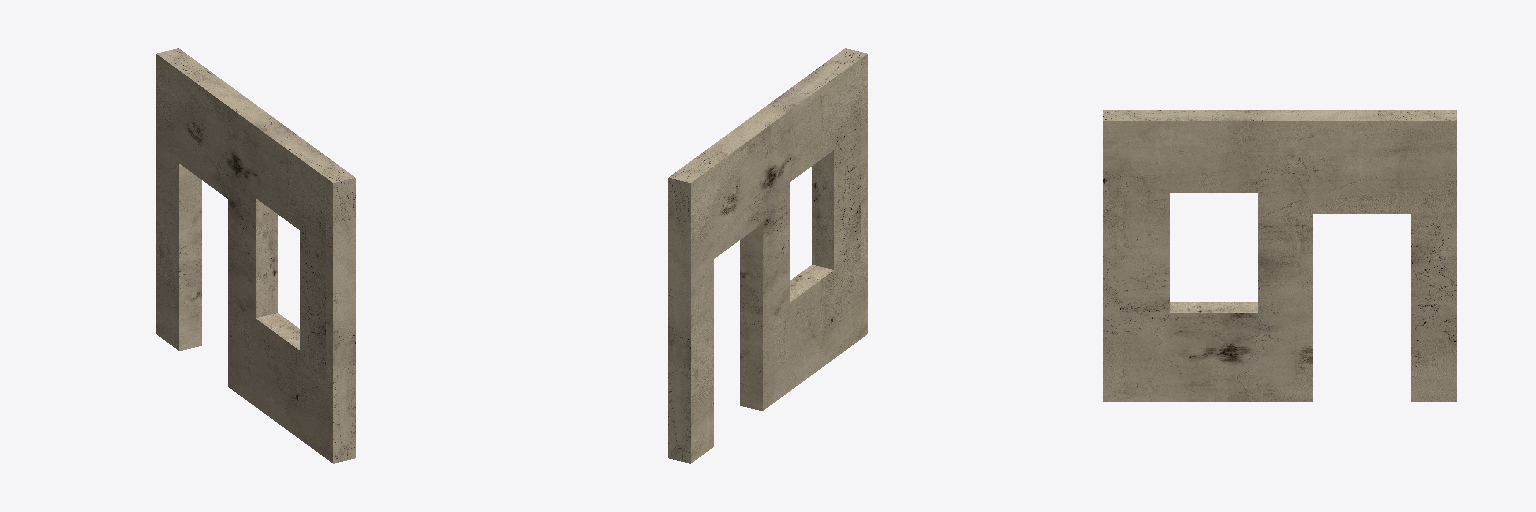
The picture shows the model from 3 angles: view 1: azimuth 30°, elevation 25°; view 2: azimuth 150°, elevation 25°; view 3: azimuth 270°, elevation 25°; orthographic projection.
Visible parts, largest first — view 1: Box02; view 2: Box02; view 3: Box02.
Boxes of the visible parts, box(x1,y1,x2,y2) form: Box02: box(156, 48, 355, 463); Box02: box(668, 48, 867, 463); Box02: box(1103, 110, 1456, 401).
Bounding box in the file's own units: 0.2933 × 3.5 × 4.
Materials: 1 (1 with a texture image).